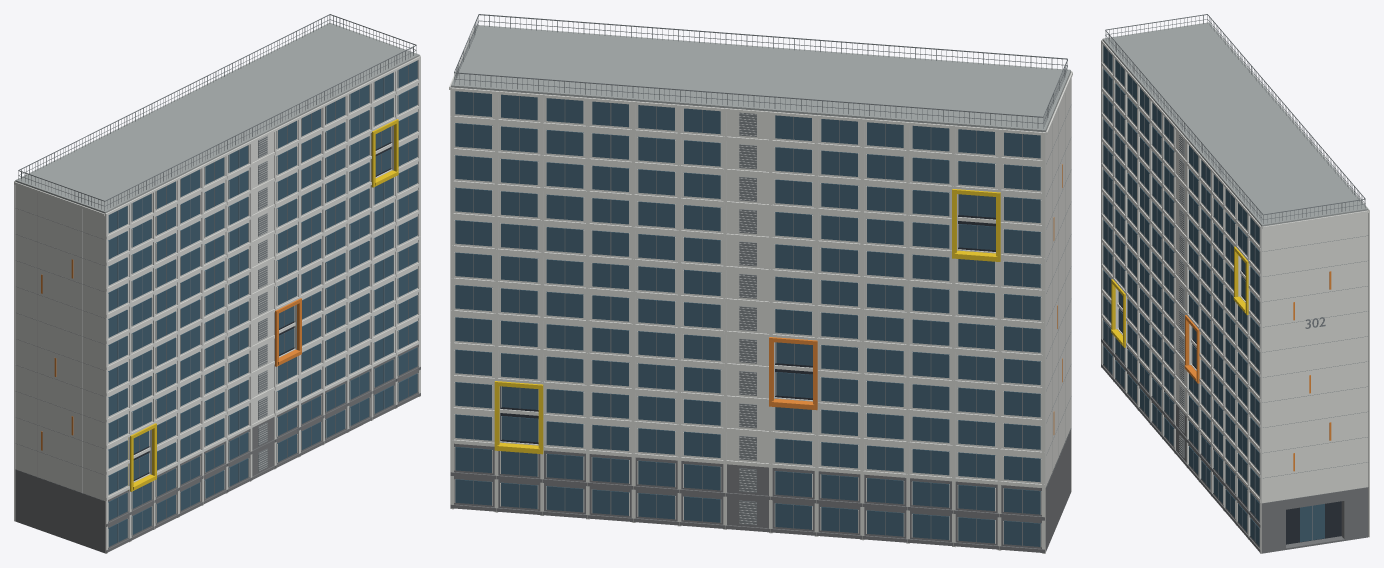
The model's file is bespoke-songpa-helio-city-302.glb.
3 views of the same model, side by side, from view 1: azimuth 30°, elevation 25°; view 2: azimuth 150°, elevation 25°; view 3: azimuth 270°, elevation 25° (orthographic). The views are drawn at different scales.
Parts seen in each view (by area): view 1: Helio302_editable_Helio302_white_slab_frames, Helio302_editable_Helio302_dark_blue_grey_glazing, Helio302_editable_Helio302_low_roof_deck, Helio302_editable_Helio302_grey_service_grille, Helio302_editable_Helio302_dark_grey_twofloor_base, Helio302_editable_Helio302_blankwall_grey_panels, Helio302_editable_Helio302_yellow_projecting_rectangular_fra, Helio302_editable_Helio302_orange_narrow_accent; view 2: Helio302_editable_Helio302_dark_blue_grey_glazing, Helio302_editable_Helio302_white_slab_frames, Helio302_editable_Helio302_low_roof_deck, Helio302_editable_Helio302_grey_service_grille, Helio302_editable_Helio302_dark_grey_twofloor_base, Helio302_editable_Helio302_blankwall_grey_panels, Helio302_editable_Helio302_yellow_projecting_rectangular_fra, Helio302_editable_Helio302_orange_narrow_accent, Helio302_editable_Helio302_deep_shaded_frame_recess; view 3: Helio302_editable_Helio302_white_slab_frames, Helio302_editable_Helio302_dark_blue_grey_glazing, Helio302_editable_Helio302_low_roof_deck, Helio302_editable_Helio302_grey_service_grille, Helio302_editable_Helio302_dark_grey_twofloor_base, Helio302_editable_Helio302_deep_shaded_frame_recess, Helio302_editable_Helio302_yellow_projecting_rectangular_fra, Helio302_editable_Helio302_orange_narrow_accent, Helio302_editable_Helio302_blankwall_grey_panels.
Part boxes in pixels (x1=…): Helio302_editable_Helio302_white_slab_frames: x1=14, y1=55, x2=420, y2=553; Helio302_editable_Helio302_dark_blue_grey_glazing: x1=108, y1=60, x2=417, y2=546; Helio302_editable_Helio302_low_roof_deck: x1=15, y1=23, x2=419, y2=213; Helio302_editable_Helio302_grey_service_grille: x1=15, y1=14, x2=416, y2=542; Helio302_editable_Helio302_dark_grey_twofloor_base: x1=15, y1=345, x2=420, y2=553; Helio302_editable_Helio302_blankwall_grey_panels: x1=37, y1=136, x2=267, y2=492; Helio302_editable_Helio302_yellow_projecting_rectangular_fra: x1=128, y1=119, x2=398, y2=491; Helio302_editable_Helio302_orange_narrow_accent: x1=41, y1=259, x2=301, y2=450; Helio302_editable_Helio302_dark_blue_grey_glazing: x1=455, y1=91, x2=1040, y2=546; Helio302_editable_Helio302_white_slab_frames: x1=449, y1=27, x2=1072, y2=553; Helio302_editable_Helio302_low_roof_deck: x1=451, y1=25, x2=1070, y2=131; Helio302_editable_Helio302_grey_service_grille: x1=454, y1=14, x2=1071, y2=545; Helio302_editable_Helio302_dark_grey_twofloor_base: x1=450, y1=428, x2=1070, y2=552; Helio302_editable_Helio302_blankwall_grey_panels: x1=739, y1=93, x2=1065, y2=524; Helio302_editable_Helio302_yellow_projecting_rectangular_fra: x1=494, y1=189, x2=1000, y2=454; Helio302_editable_Helio302_orange_narrow_accent: x1=769, y1=164, x2=1062, y2=434; Helio302_editable_Helio302_deep_shaded_frame_recess: x1=500, y1=194, x2=995, y2=444; Helio302_editable_Helio302_white_slab_frames: x1=1101, y1=23, x2=1369, y2=553; Helio302_editable_Helio302_dark_blue_grey_glazing: x1=1103, y1=45, x2=1324, y2=546; Helio302_editable_Helio302_low_roof_deck: x1=1102, y1=22, x2=1368, y2=226; Helio302_editable_Helio302_grey_service_grille: x1=1105, y1=14, x2=1367, y2=541; Helio302_editable_Helio302_dark_grey_twofloor_base: x1=1101, y1=319, x2=1368, y2=553; Helio302_editable_Helio302_deep_shaded_frame_recess: x1=1119, y1=270, x2=1341, y2=544; Helio302_editable_Helio302_yellow_projecting_rectangular_fra: x1=1111, y1=246, x2=1249, y2=347; Helio302_editable_Helio302_orange_narrow_accent: x1=1184, y1=271, x2=1331, y2=471; Helio302_editable_Helio302_blankwall_grey_panels: x1=1179, y1=134, x2=1183, y2=457.
Bounding box in the file's own units: 48.42 × 37.4 × 26.96.
